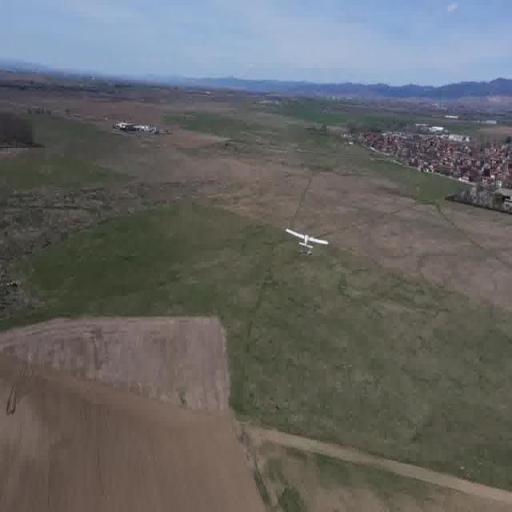uav: (284, 224, 330, 260)
